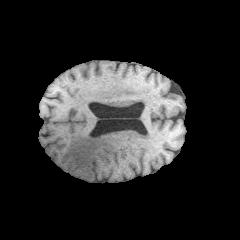glioma: (63, 136, 114, 179)
